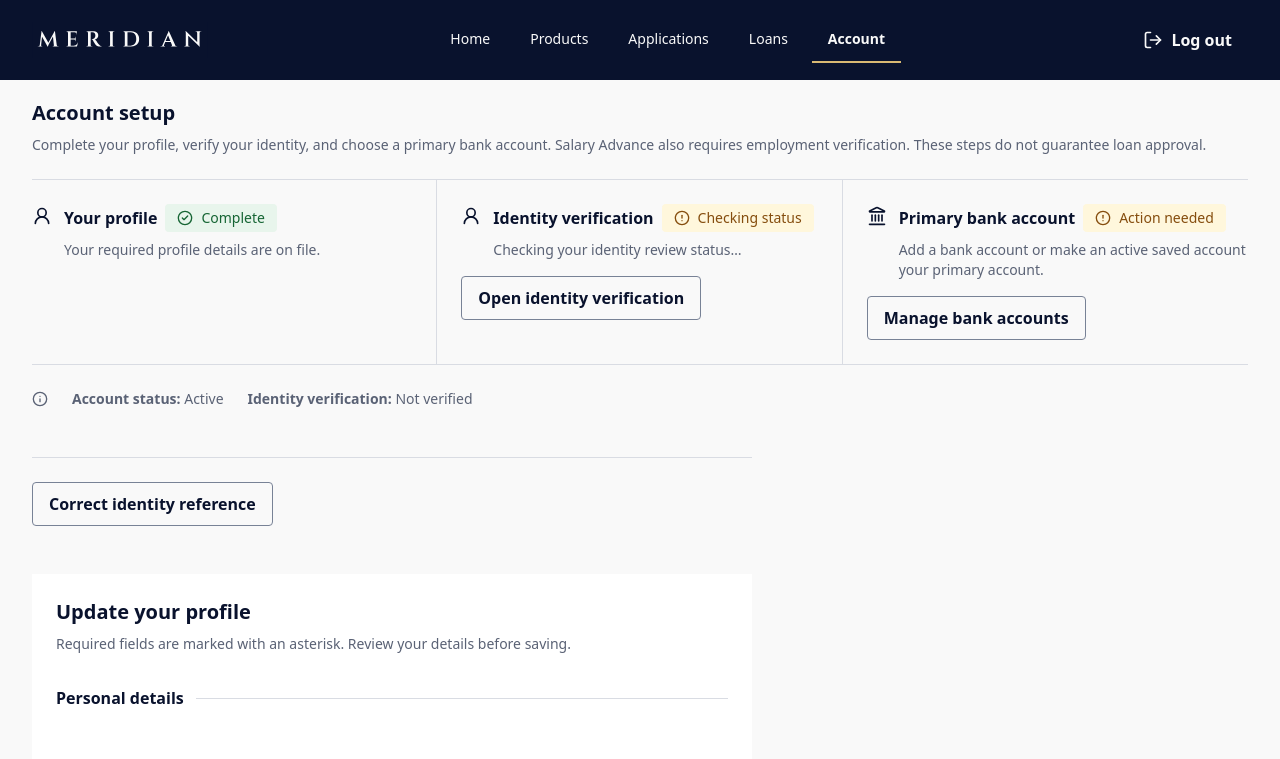
Test: Customer account routes and profile › removes correction after explicit reconciliation returns ineligible Customer facts: {"status":"INACTIVE"}
(page scrolled)
Click the button "Correct identity reference" at (152, 504), box top-left (32, 482), bottom-right (273, 526)
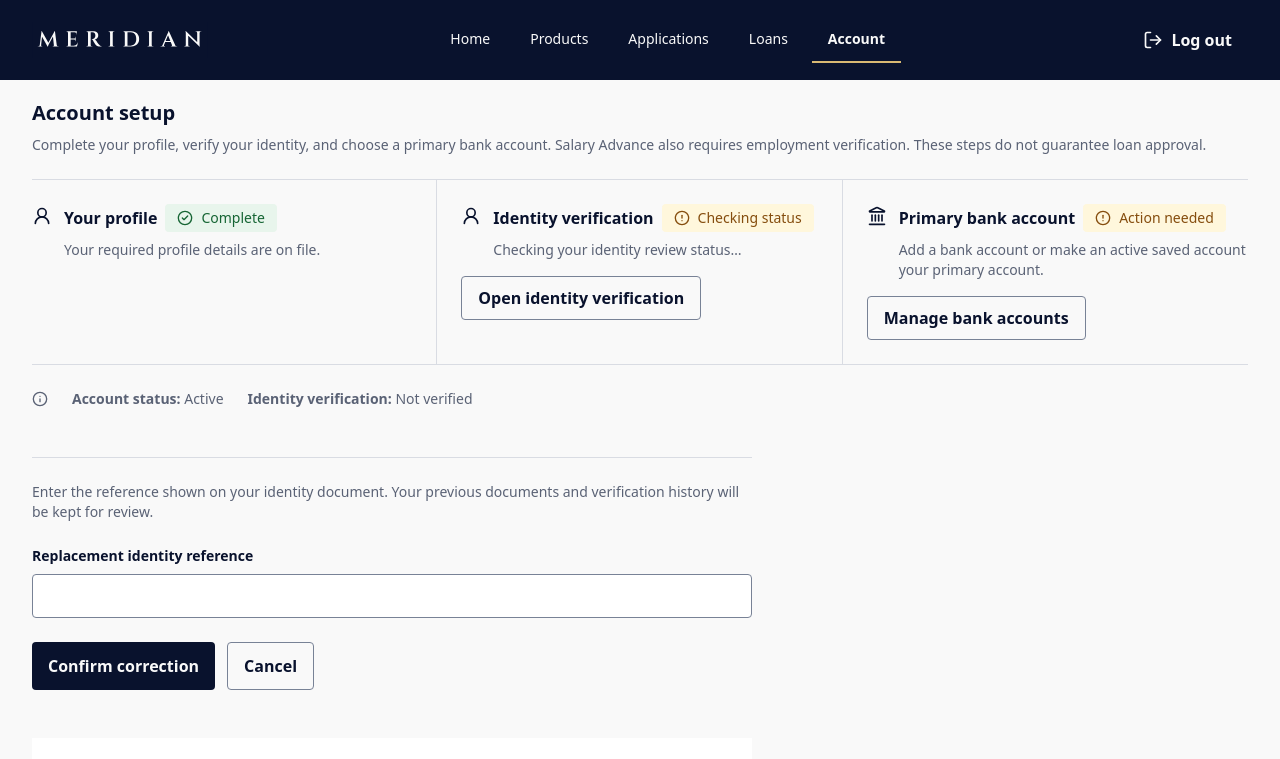
Type "FICTIONAL-UNCERTAIN-REFERENCE" into the field labelled "Replacement identity reference" at (392, 596), box top-left (32, 574), bottom-right (752, 618)
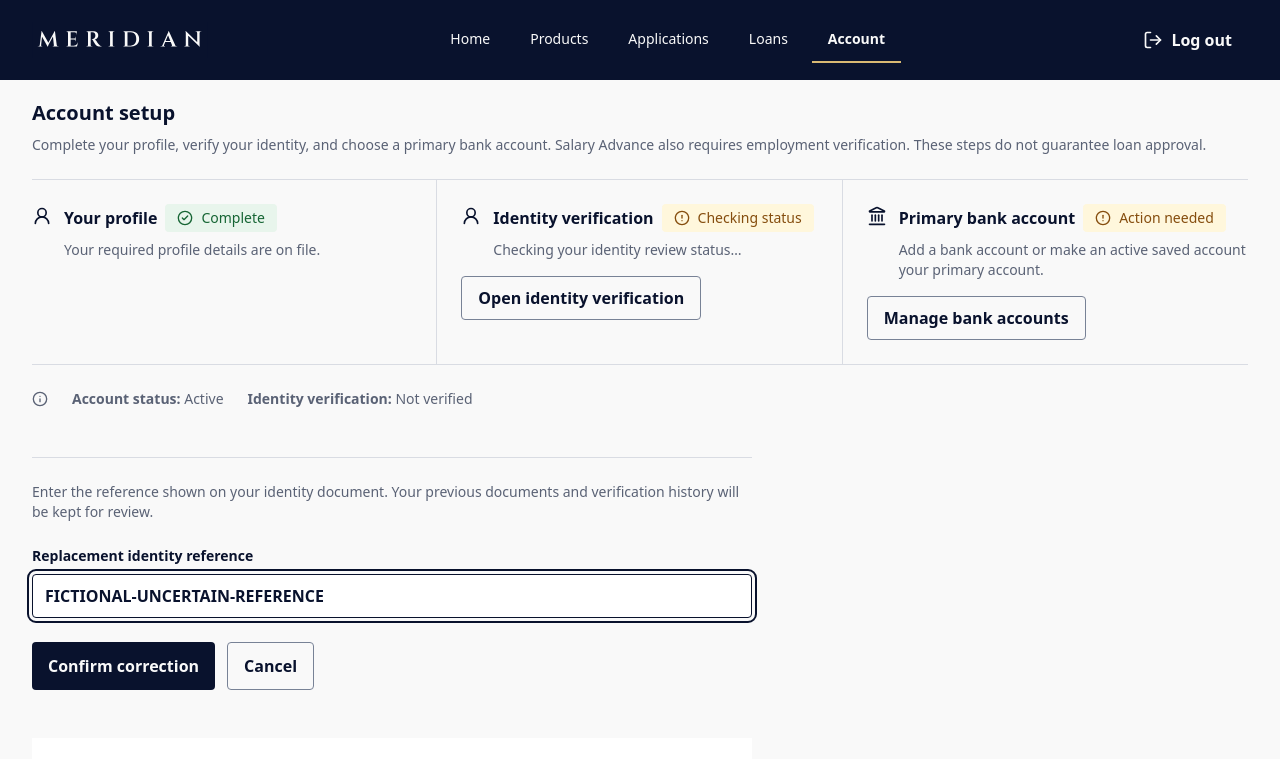
Click the button "Confirm correction" at (124, 666), box top-left (32, 642), bottom-right (215, 690)
(page scrolled)
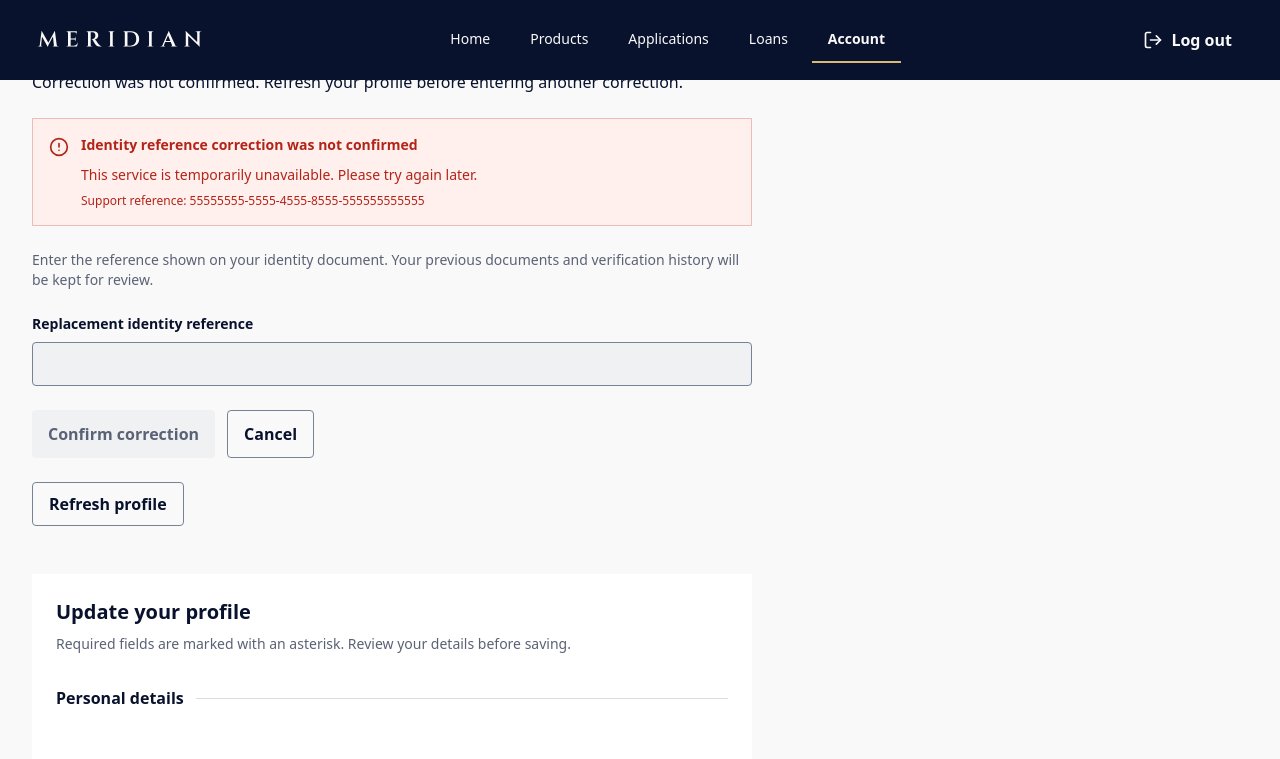
Result: the button "Refresh profile" is enabled
Click the button "Refresh profile" at (108, 504), box top-left (32, 482), bottom-right (184, 526)
(page scrolled)
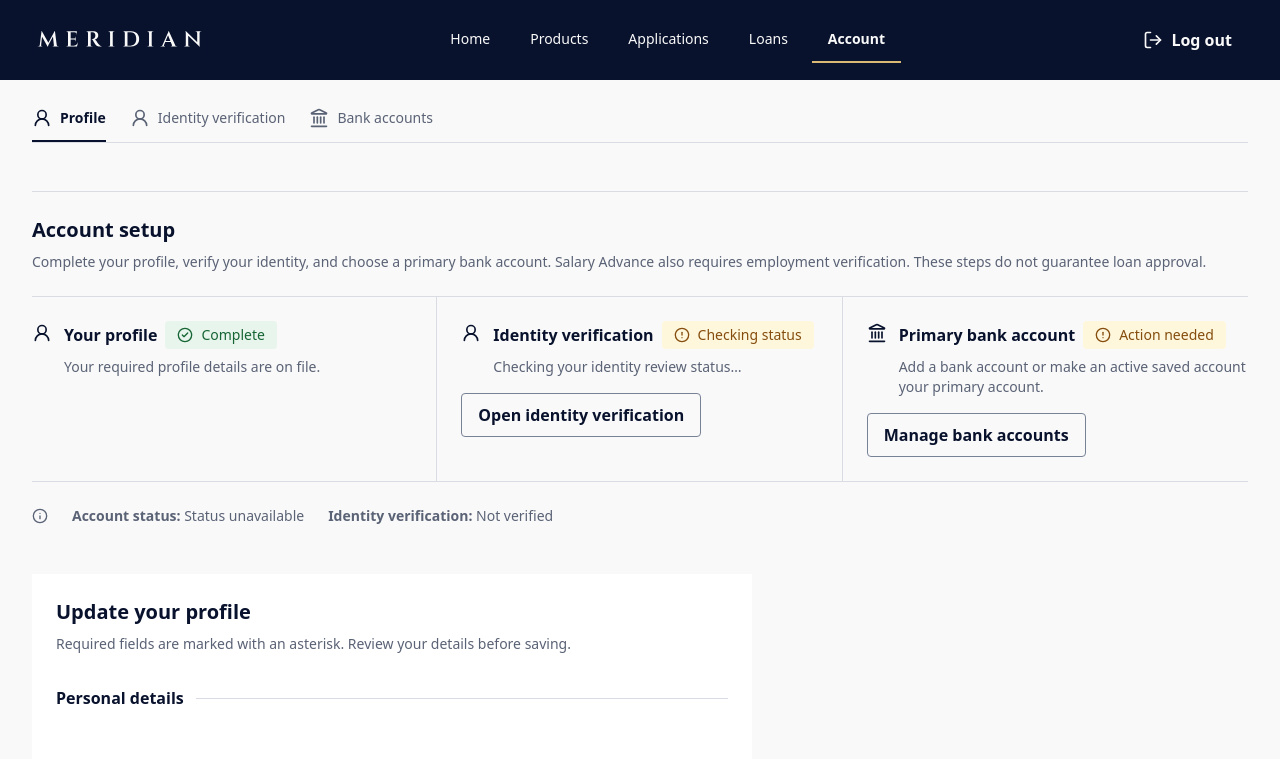
Expected: the button "Correct identity reference" is not shown
Result: the label labelled "Replacement identity reference" is gone
Result: the button "Refresh profile" is gone
